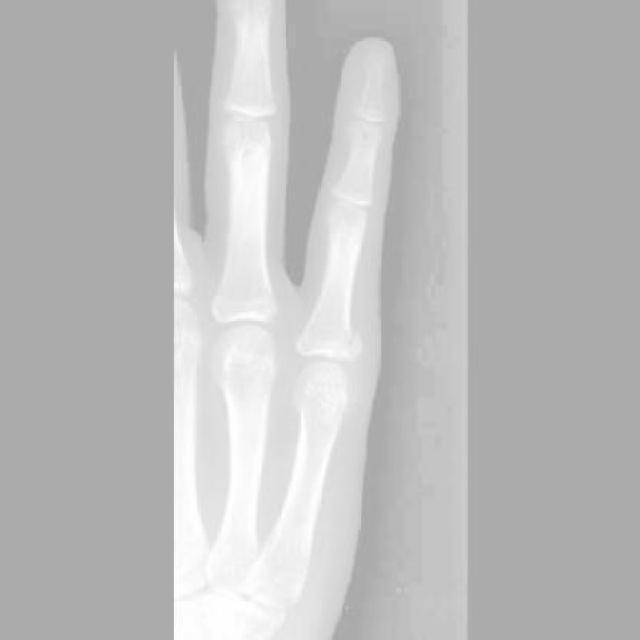Fracture: (297, 322, 365, 356)
